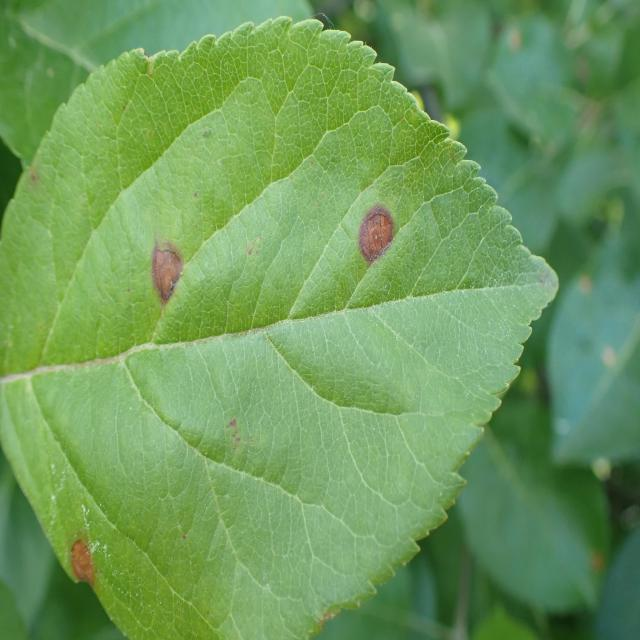Black Rot: (342, 177, 412, 333), (50, 512, 126, 621), (133, 217, 197, 334)
